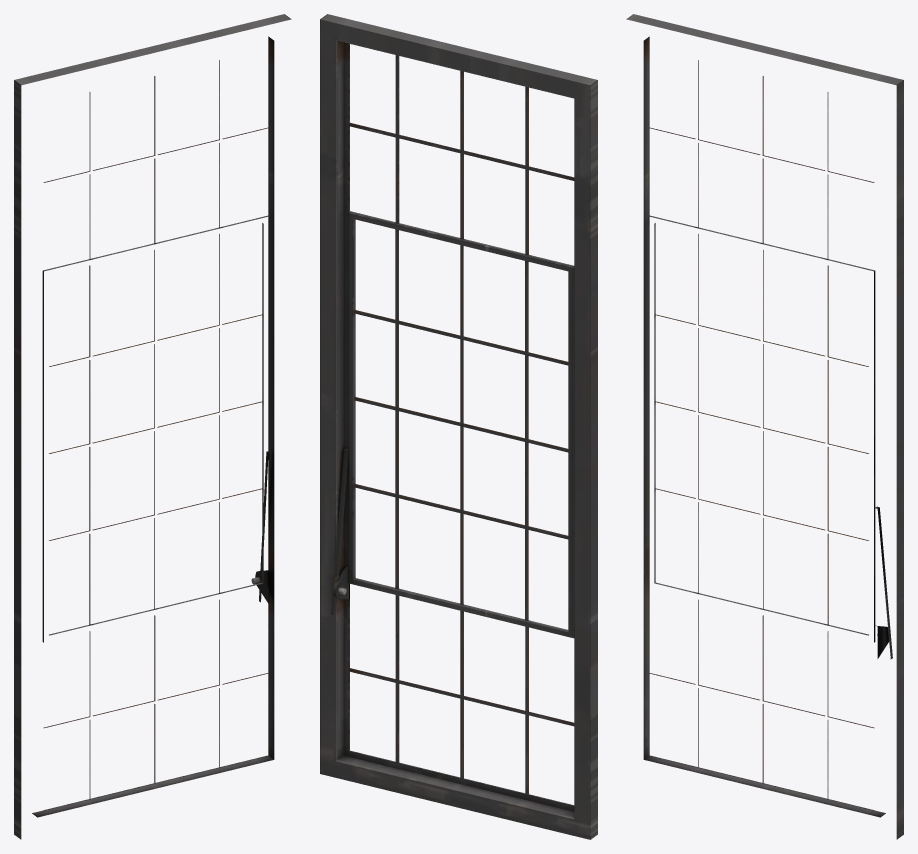
The picture shows the model from 3 angles, left to right: view 1: azimuth 30°, elevation 25°; view 2: azimuth 150°, elevation 25°; view 3: azimuth 330°, elevation 25°; orthographic projection.
Parts seen in each view (by area): view 1: body0_model0_lod0_mesh0; view 2: body0_model0_lod0_mesh0; view 3: body0_model0_lod0_mesh0.
Boxes of the visible parts, x1,y1,x2,y2 form: body0_model0_lod0_mesh0: (14, 14, 291, 839); body0_model0_lod0_mesh0: (320, 14, 597, 839); body0_model0_lod0_mesh0: (626, 14, 903, 839).
Size of the model in its own units: 192 by 512 by 17.06.
Materials: 1 (1 with a texture image).
